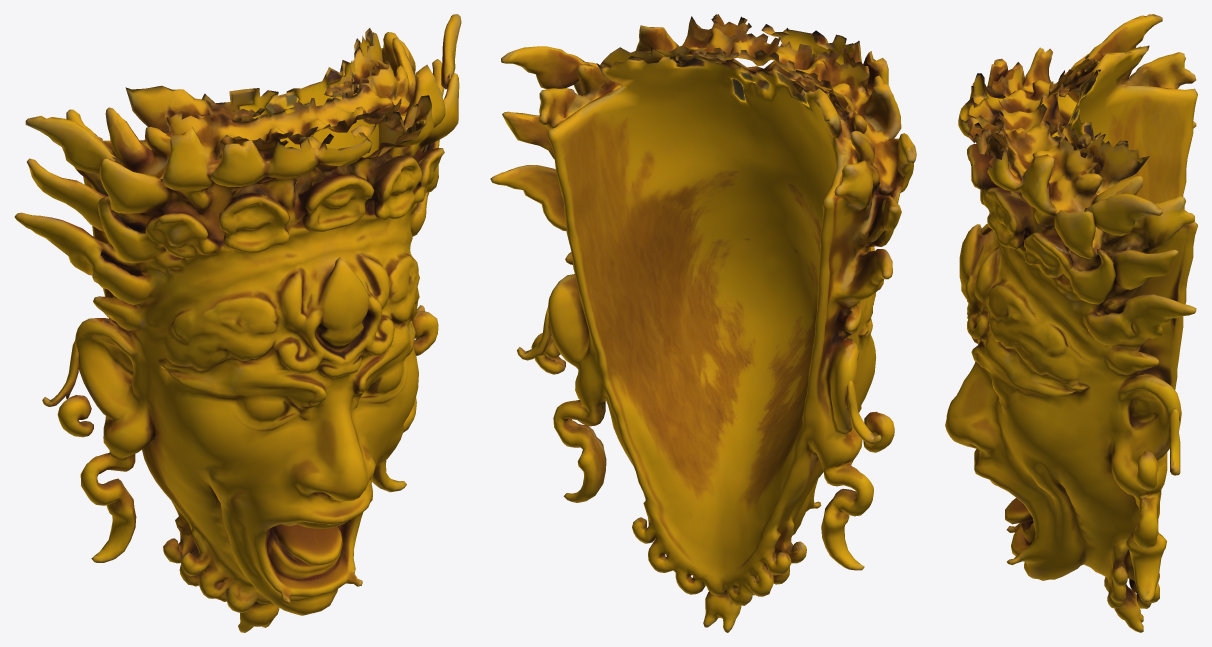
The model's file is High_fidelity_3D_mode_0623145250_texture.fbx.
3 renders of one model, left to right at view 1: azimuth 30°, elevation 25°; view 2: azimuth 150°, elevation 25°; view 3: azimuth 270°, elevation 25°, orthographic. The views are drawn at different scales.
Parts seen in each view (by area): view 1: Mesh_0; view 2: Mesh_0; view 3: Mesh_0.
Part boxes in pixels (box(x1,y1,x2,y2)): Mesh_0: box(14, 14, 461, 632); Mesh_0: box(490, 14, 916, 632); Mesh_0: box(945, 14, 1197, 632).
Bounding box in the file's own units: 157 × 200 × 85.64.
Materials: 1 (1 with a texture image).
